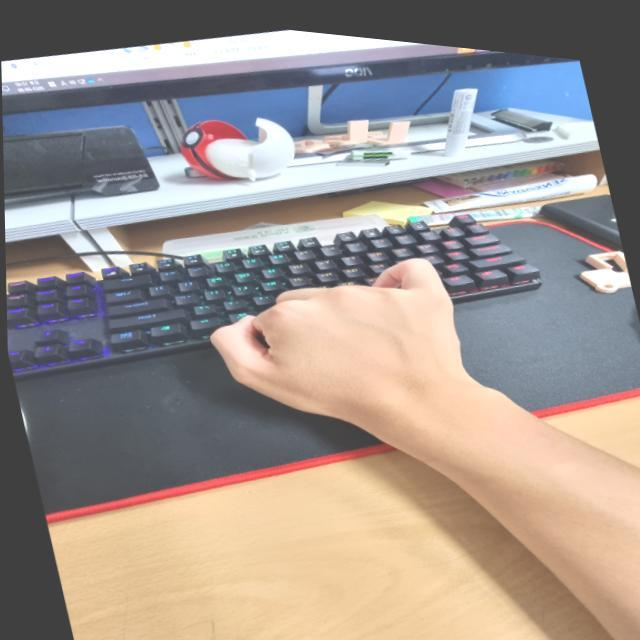keyboard-with-hands: (7, 212, 550, 382)
